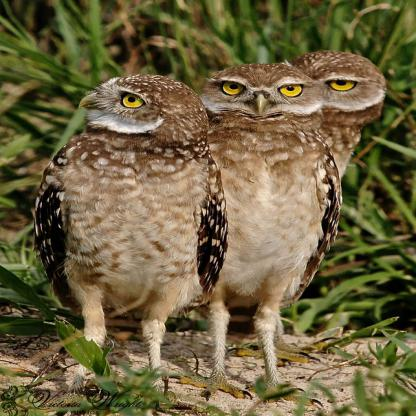owl: (32, 4, 416, 416), (230, 38, 415, 416), (288, 12, 416, 295)
